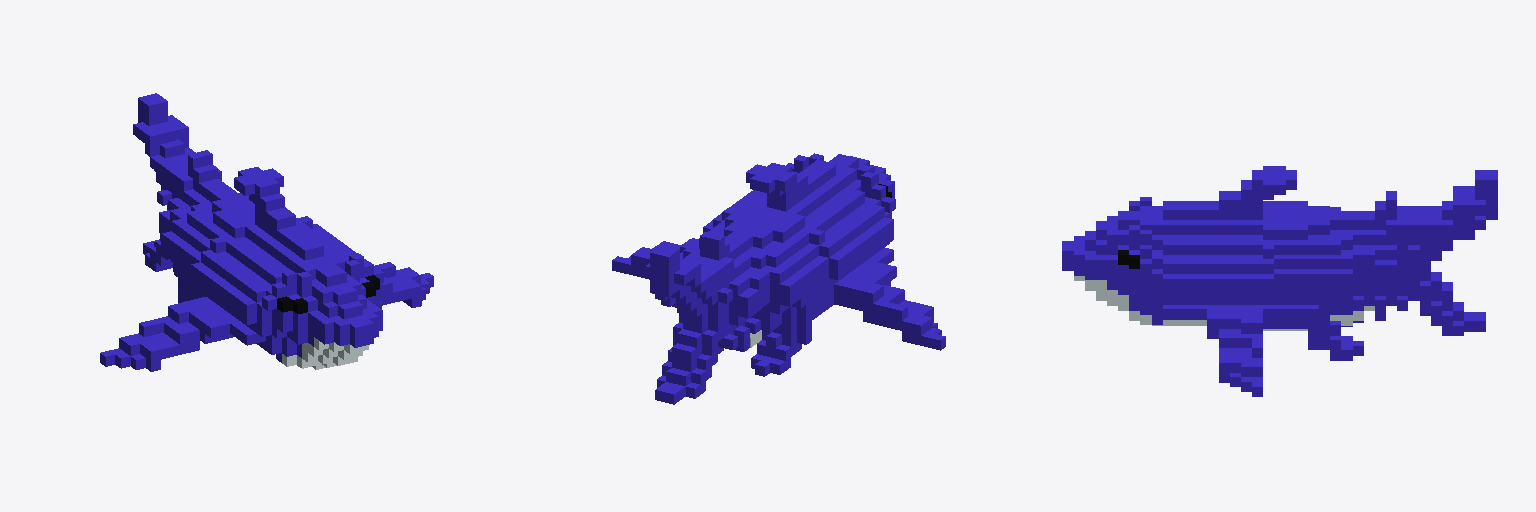
3 views of the same model, side by side, from view 1: azimuth 30°, elevation 25°; view 2: azimuth 150°, elevation 25°; view 3: azimuth 270°, elevation 25° (orthographic).
Visible parts, largest first — view 1: object 1; view 2: object 1; view 3: object 1.
Part boxes in pixels (bbox=[...]): object 1: bbox=[100, 93, 433, 371]; object 1: bbox=[612, 153, 945, 404]; object 1: bbox=[1062, 166, 1497, 396].
Size of the model in its own units: 3.4 by 1.6 by 3.9.
1 materials, 1 textured.